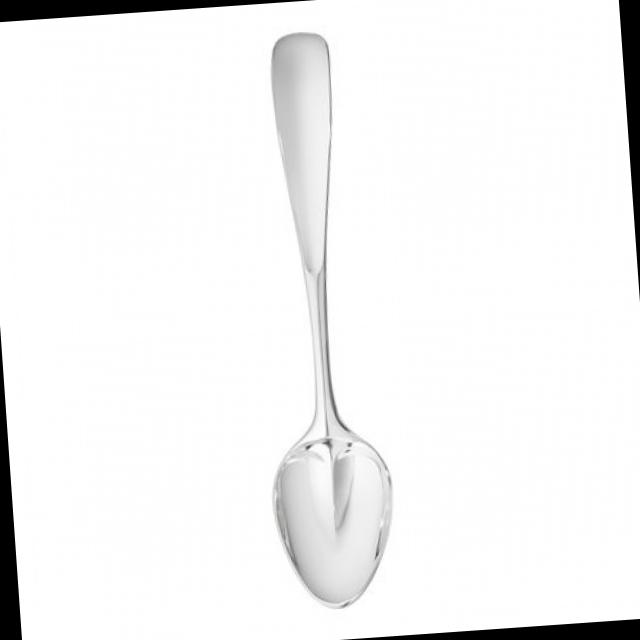spoon: (233, 18, 408, 616)
